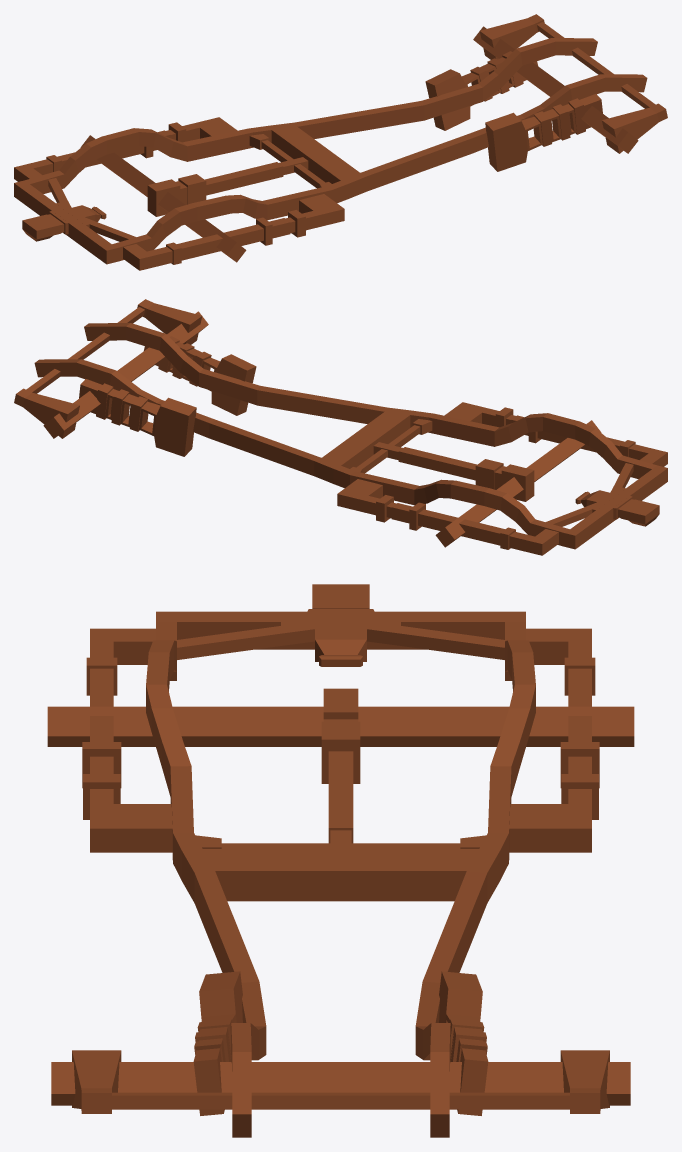
File: Car_Base.fbx
3 views of the same model, one above another, from view 1: azimuth 30°, elevation 25°; view 2: azimuth 150°, elevation 25°; view 3: azimuth 270°, elevation 25° (orthographic). The views are drawn at different scales.
Visible parts, largest first — view 1: Car_underside1; view 2: Car_underside1; view 3: Car_underside1.
Boxes of the visible parts, x1=… form: Car_underside1: x1=14, y1=14, x2=667, y2=270; Car_underside1: x1=14, y1=299, x2=667, y2=555; Car_underside1: x1=47, y1=584, x2=634, y2=1137.
Size of the model in its own units: 176 by 410 by 42.69.
